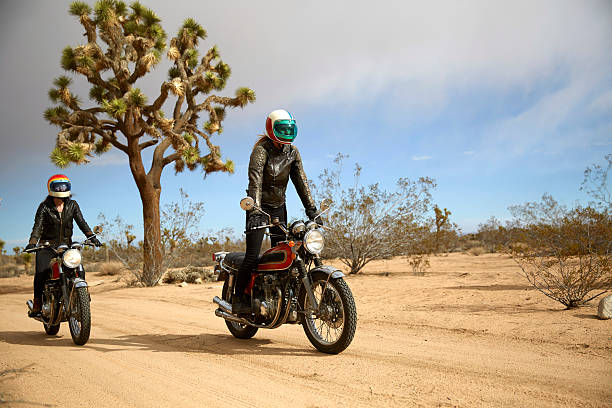helmet: (264, 109, 299, 146), (46, 174, 74, 199)
person: (242, 108, 327, 226), (25, 173, 100, 244)
